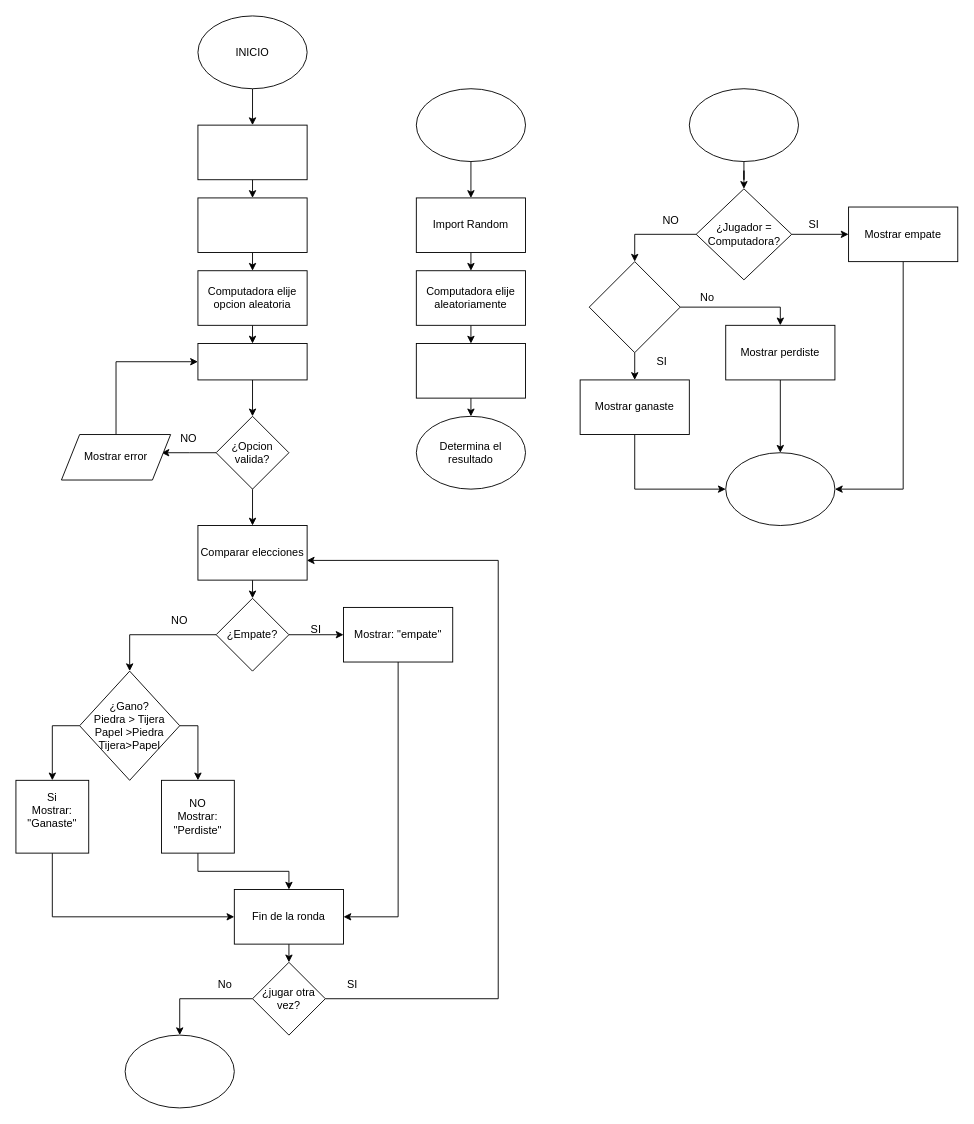
Some shapes in this 974 by 1124 pixel diagram are drawn without their labels. Here are the shapes that lost their labels. From the top down, the centre of each, then its label:
pixel 470 125: Entrada
pixel 743 125: Logica
pixel 252 152: Definir Opciones piedra, papel tijera
pixel 252 225: Inicio del Bucle while true
pixel 634 307: ¿Jugador > computadora?
pixel 252 361: Jugador ingresa opcion
pixel 470 370: Jugador elije entre las 3 opciones
pixel 780 489: FIN del juego
pixel 179 1071: Fin mostrar: "Gracias por jugar"
